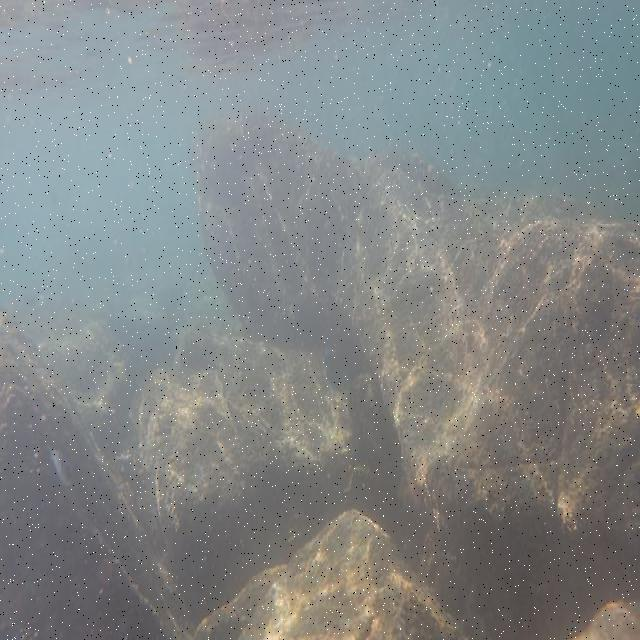sea-floor: (192, 100, 638, 637), (128, 326, 374, 623), (1, 308, 193, 639), (192, 508, 470, 639)
